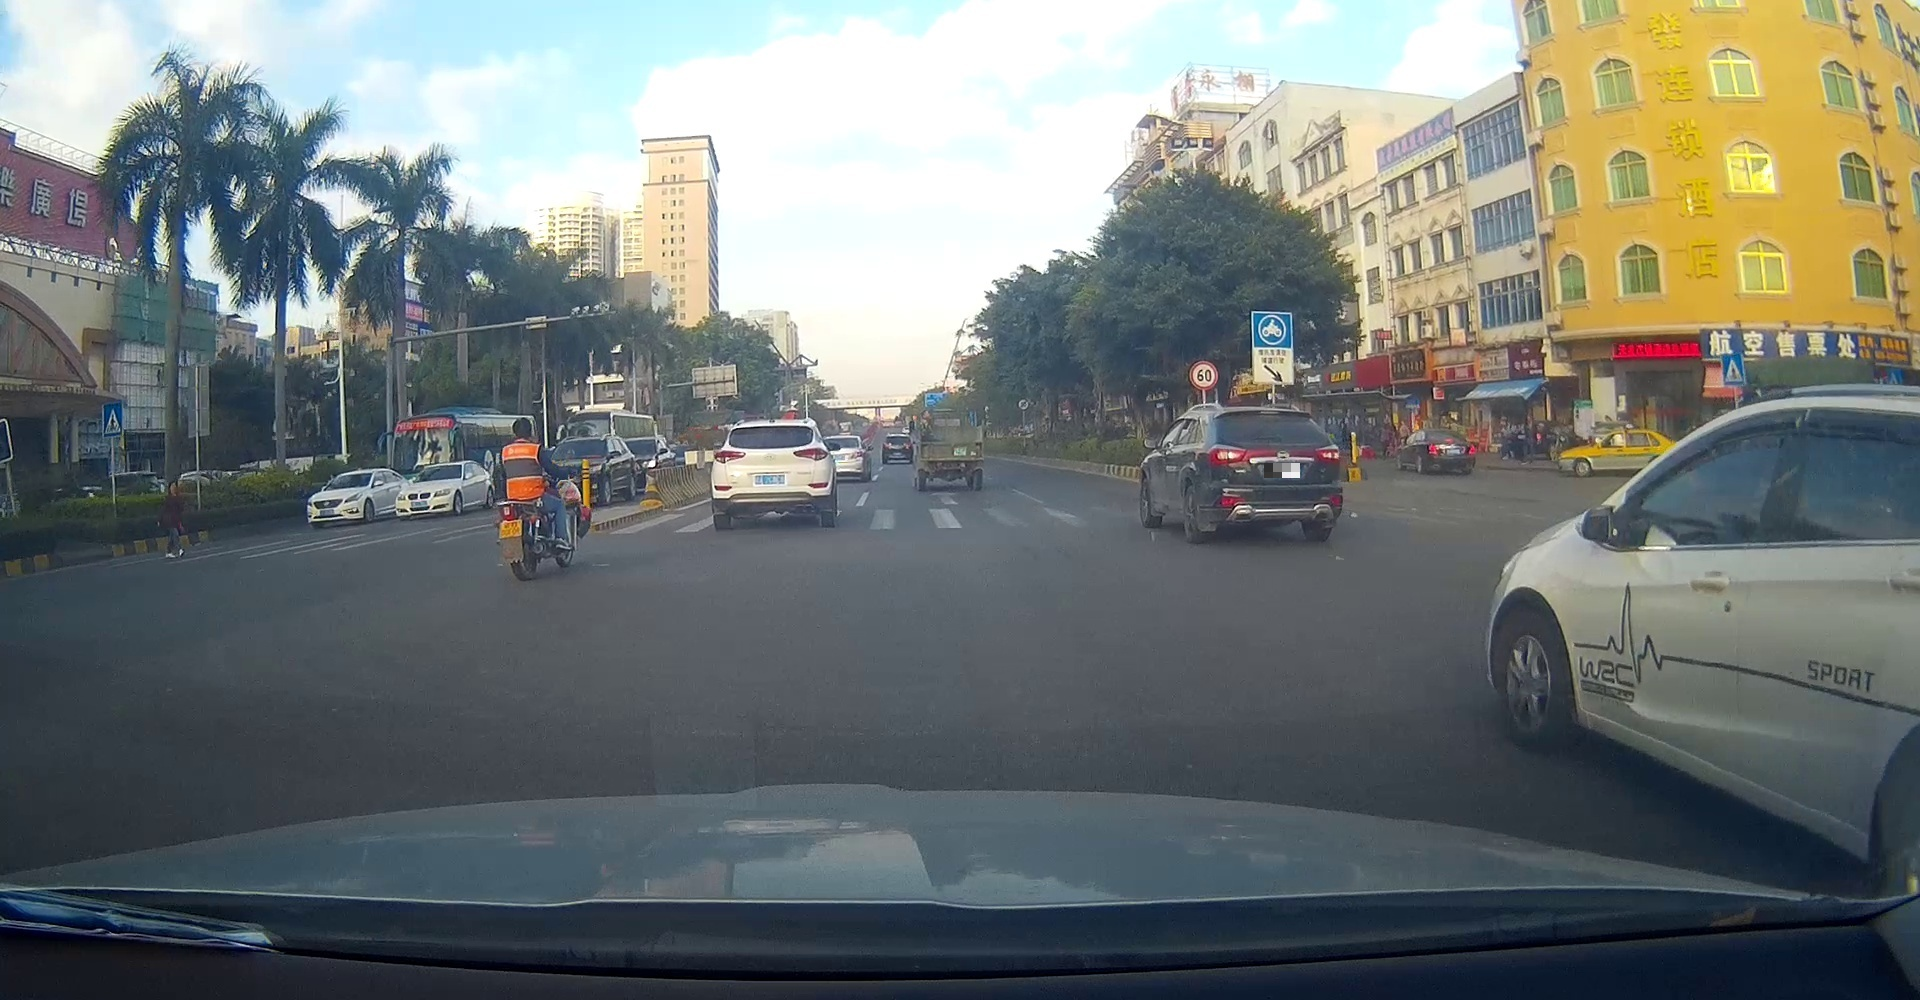L_light: (1210, 448, 1246, 464), (712, 449, 745, 463), (1429, 444, 1437, 456)
R_light: (792, 447, 828, 461), (1316, 445, 1340, 461), (1468, 444, 1476, 456)
T_light: (1261, 414, 1285, 419), (761, 426, 778, 430), (1444, 438, 1454, 442)
day-brake: (1423, 430, 1477, 475)
day-no: (1205, 407, 1343, 544), (711, 420, 830, 528)
plate_1: (1263, 463, 1300, 478)
